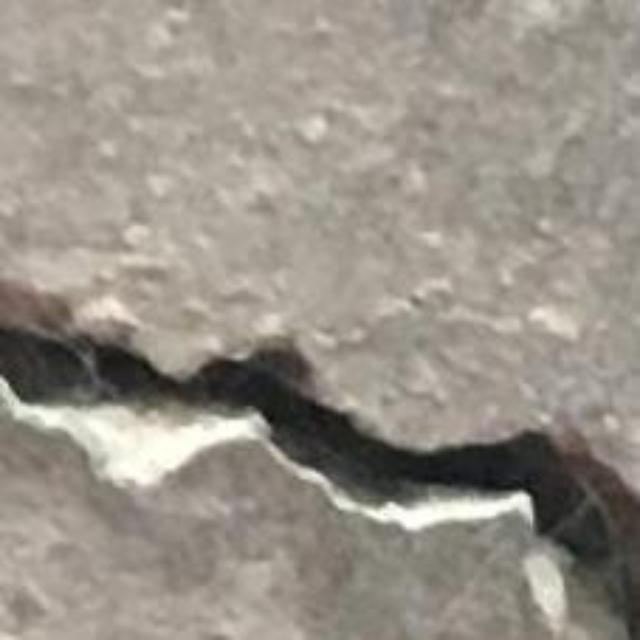crack: (0, 280, 639, 639)
